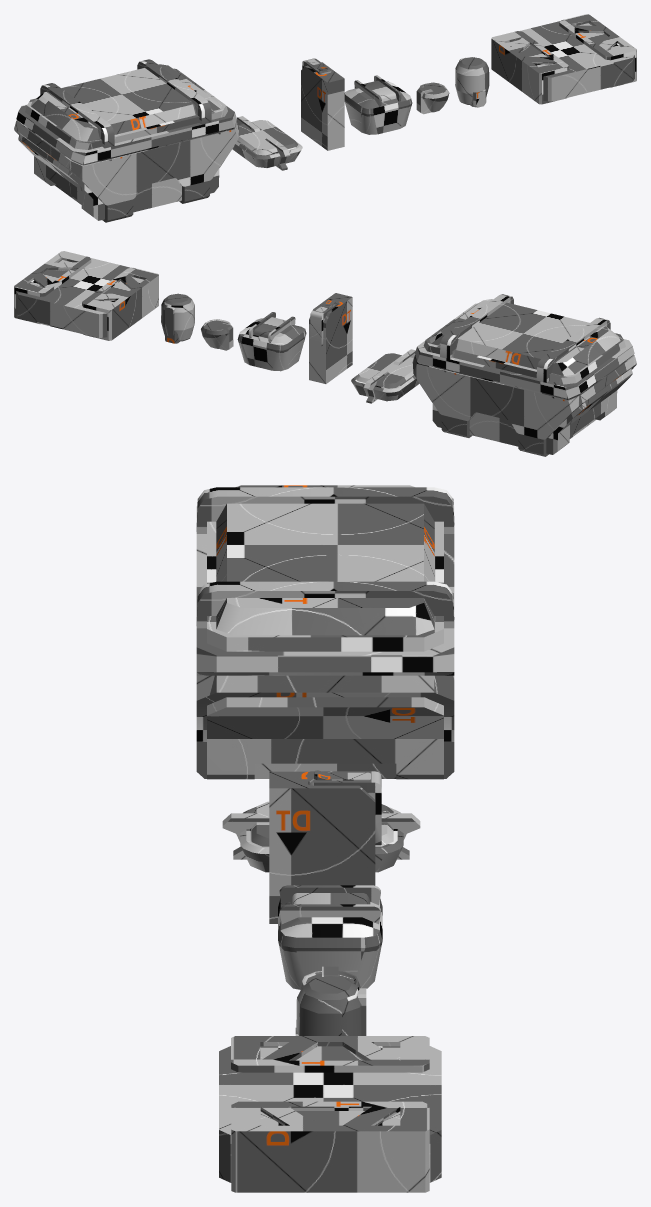
Rendered from Pack_04_Gameready.FBX.
3 views of the same model, one above another, from view 1: azimuth 30°, elevation 25°; view 2: azimuth 150°, elevation 25°; view 3: azimuth 270°, elevation 25° (orthographic). The views are drawn at different scales.
Visible parts, largest first — view 1: e; view 2: e; view 3: e.
Part boxes in pixels (x1,y1,x2,y2): e: (14,14,636,222); e: (14,251,636,456); e: (196,485,454,1192).
Size of the model in its own units: 263106 by 41701 by 51383.
